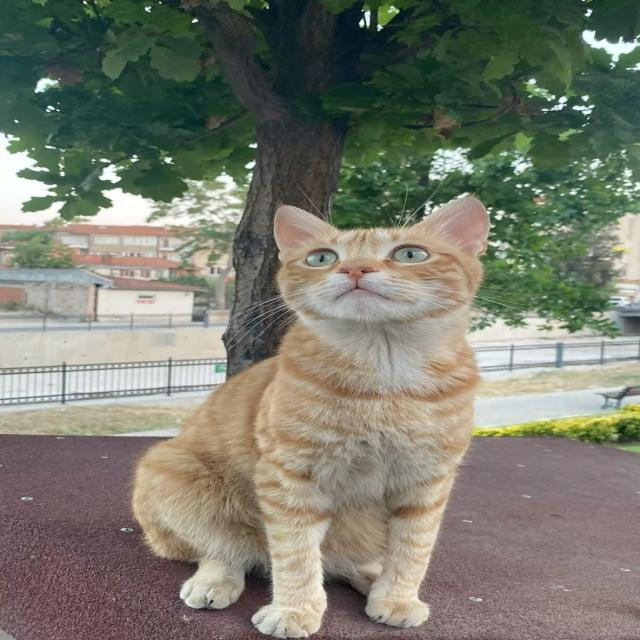sarman: (133, 196, 489, 638)
